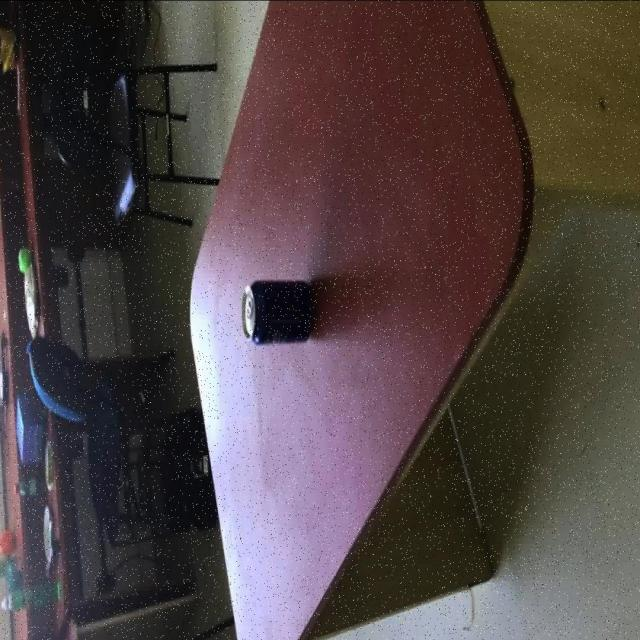Tonic: (240, 281, 312, 348), (0, 579, 60, 613), (12, 478, 38, 498)
